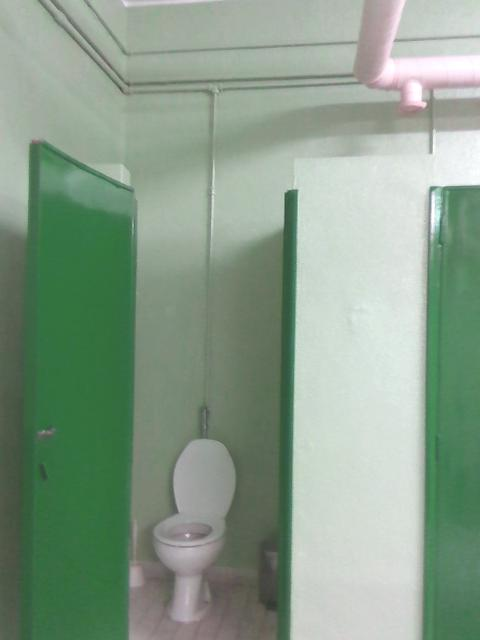open_door: (116, 158, 293, 638)
